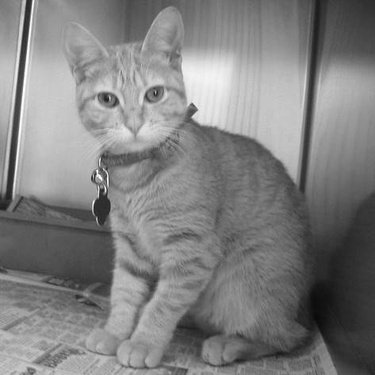cat: (64, 6, 317, 369)
